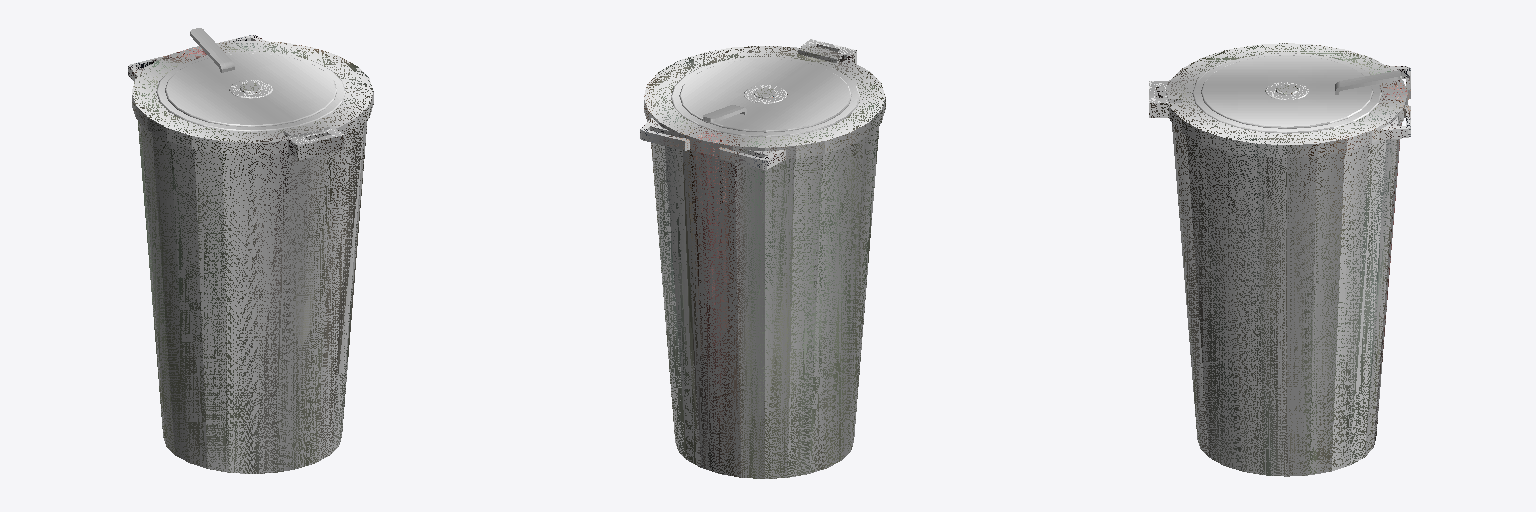
The picture shows the model from 3 angles: view 1: azimuth 30°, elevation 25°; view 2: azimuth 150°, elevation 25°; view 3: azimuth 270°, elevation 25°; orthographic projection.
Parts seen in each view (by area): view 1: mesh3_mesh3-geometry, mesh2_mesh2-geometry, mesh1_mesh1-geometry; view 2: mesh3_mesh3-geometry, mesh2_mesh2-geometry, mesh1_mesh1-geometry; view 3: mesh3_mesh3-geometry, mesh2_mesh2-geometry, mesh1_mesh1-geometry.
Boxes of the visible parts, x1=… form: mesh3_mesh3-geometry: x1=128, y1=35, x2=373, y2=473; mesh2_mesh2-geometry: x1=156, y1=28, x2=345, y2=131; mesh1_mesh1-geometry: x1=229, y1=80, x2=272, y2=98; mesh3_mesh3-geometry: x1=640, y1=39, x2=885, y2=478; mesh2_mesh2-geometry: x1=671, y1=57, x2=859, y2=136; mesh1_mesh1-geometry: x1=744, y1=85, x2=786, y2=103; mesh3_mesh3-geometry: x1=1149, y1=43, x2=1410, y2=476; mesh2_mesh2-geometry: x1=1192, y1=53, x2=1401, y2=133; mesh1_mesh1-geometry: x1=1265, y1=82, x2=1308, y2=99.
Bounding box in the file's own units: 0.4495 × 0.7492 × 0.4865.
Materials: 3 (2 with a texture image).